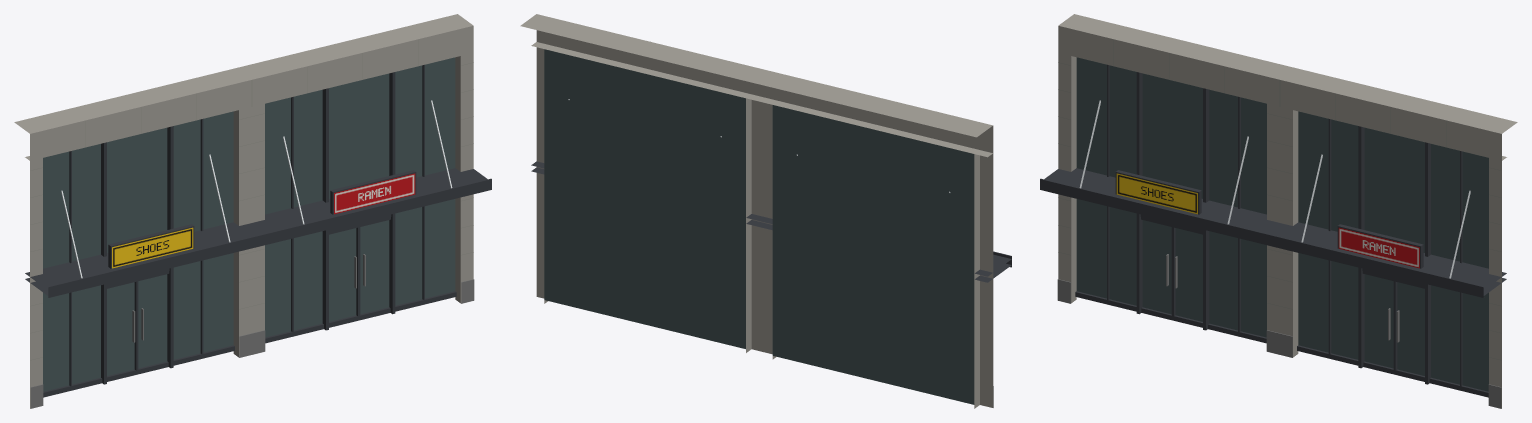
File: base-w4_close.fbx
3 views of the same model, side by side, from view 1: azimuth 30°, elevation 25°; view 2: azimuth 150°, elevation 25°; view 3: azimuth 330°, elevation 25° (orthographic). The views are drawn at different scales.
Visible parts, largest first — view 1: a2011/0/base-w4_close; view 2: a2011/0/base-w4_close; view 3: a2011/0/base-w4_close.
Boxes of the visible parts, bbox=[...] form: a2011/0/base-w4_close: bbox=[14, 14, 491, 408]; a2011/0/base-w4_close: bbox=[520, 14, 1011, 408]; a2011/0/base-w4_close: bbox=[1040, 14, 1517, 408].
Bounding box in the file's own units: 12 × 7.1 × 1.6.
